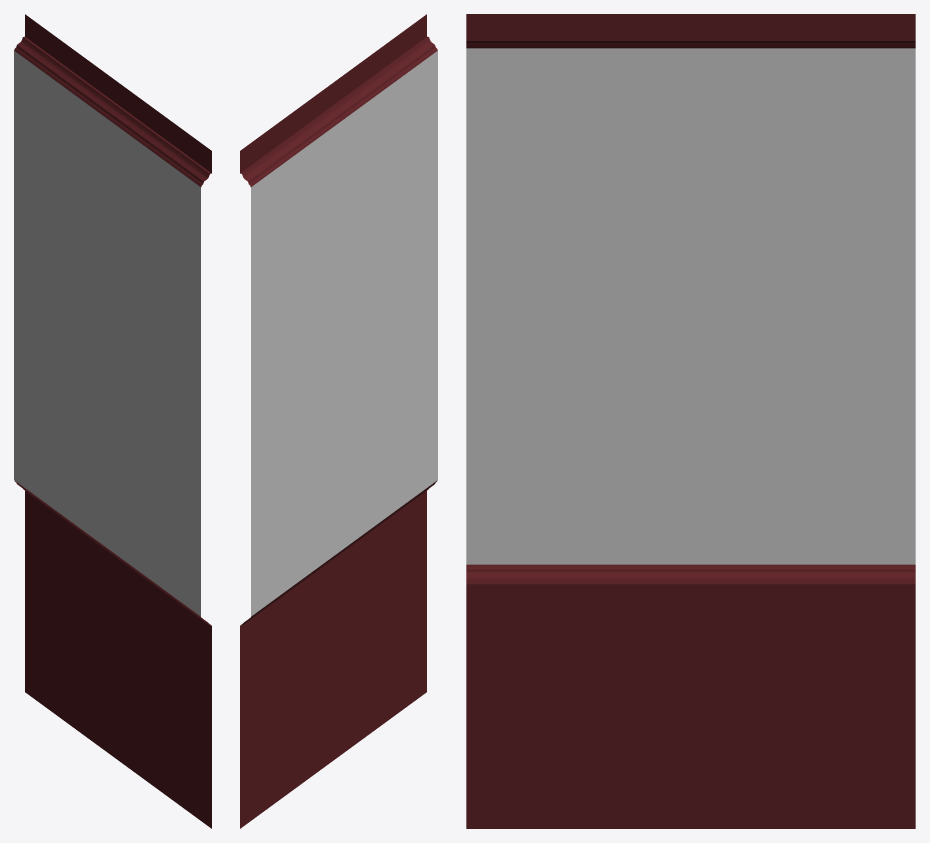
The model's file is sm_wall_150.fbx.
3 views of the same model, side by side, from view 1: azimuth 30°, elevation 25°; view 2: azimuth 150°, elevation 25°; view 3: azimuth 270°, elevation 25° (orthographic). The views are drawn at different scales.
Visible parts, largest first — view 1: sm_wall_150; view 2: sm_wall_150; view 3: sm_wall_150.
Part boxes in pixels (x1=…): sm_wall_150: x1=14, y1=14, x2=211, y2=828; sm_wall_150: x1=240, y1=14, x2=437, y2=828; sm_wall_150: x1=466, y1=14, x2=915, y2=828.
Bounding box in the file's own units: 5 × 300 × 150.
